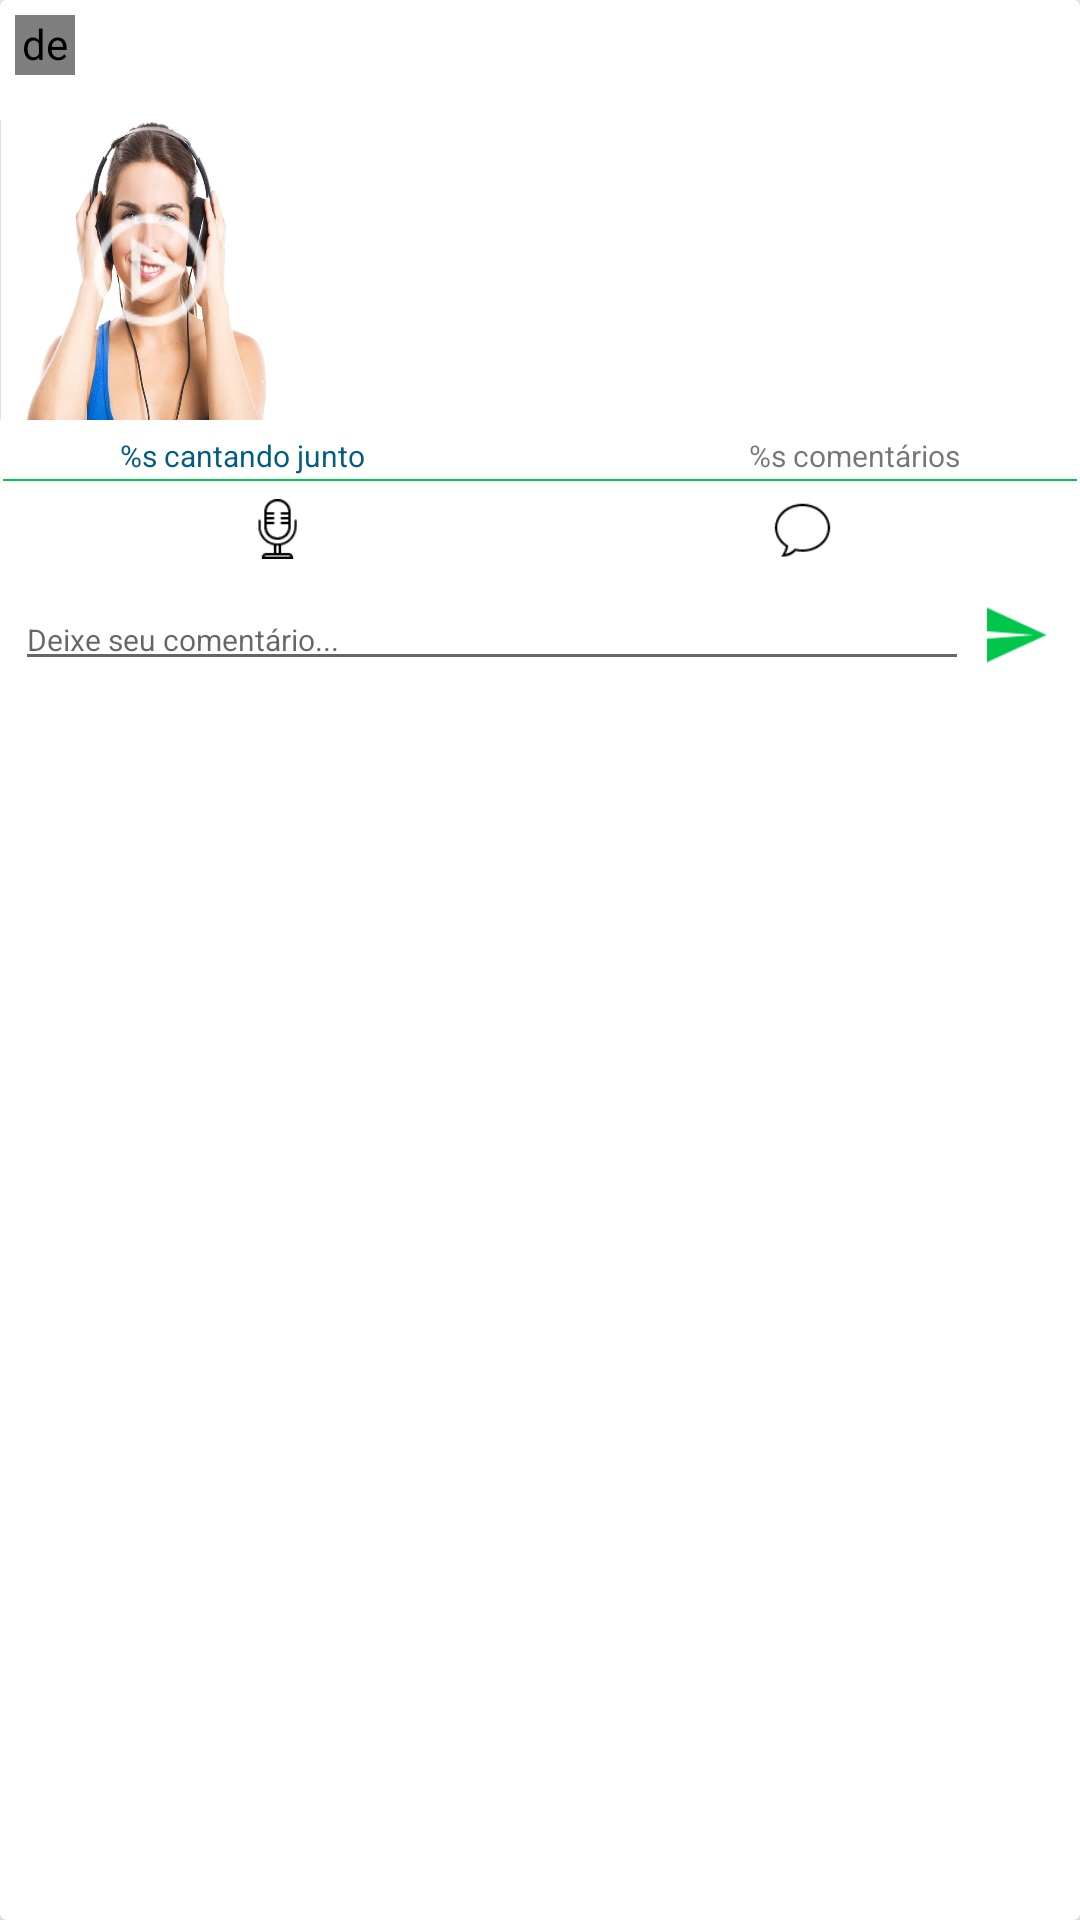

Screen size 1080w x 1920h. Icon name, then its center in pixels as [x,y]:
comment: [802,530]
microphone: [277,529]
send: [1017,635]
